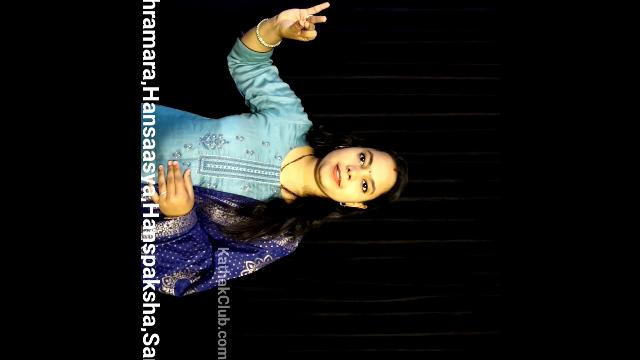bhramara: (256, 0, 337, 61)
